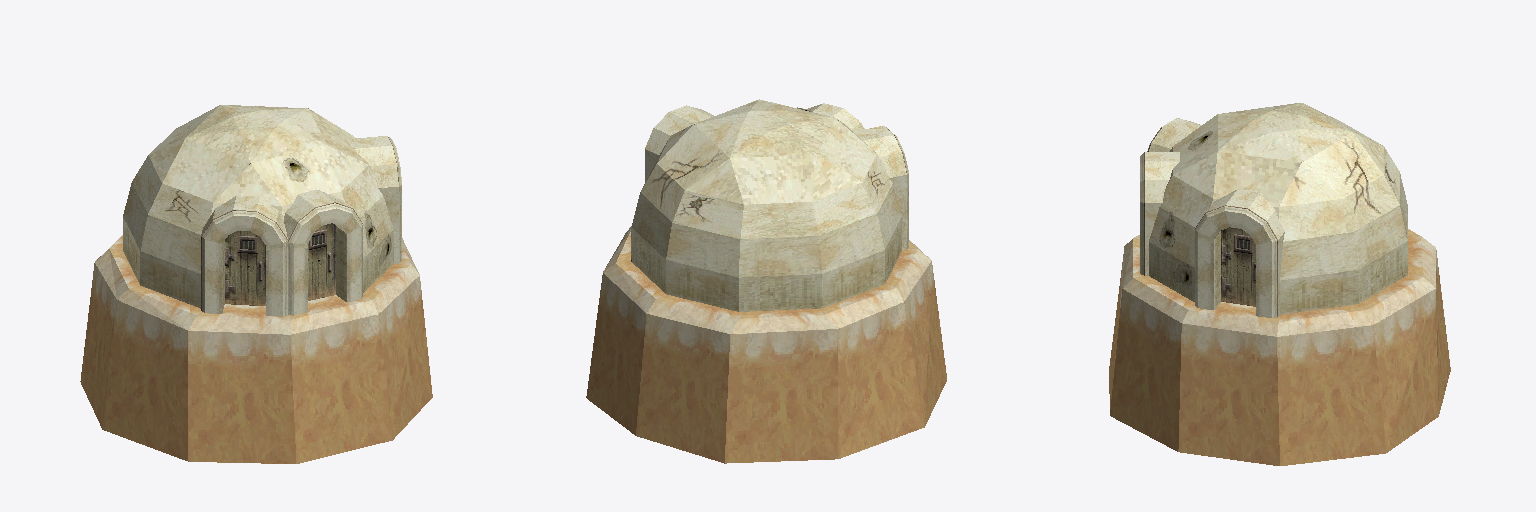
The picture shows the model from 3 angles: view 1: azimuth 30°, elevation 25°; view 2: azimuth 150°, elevation 25°; view 3: azimuth 270°, elevation 25°; orthographic projection.
Visible parts, largest first — view 1: Node 0; view 2: Node 0; view 3: Node 0.
Boxes of the visible parts, x1,y1,x2,y2 form: Node 0: [80, 105, 432, 463]; Node 0: [586, 99, 946, 463]; Node 0: [1109, 103, 1450, 465].
Size of the model in its own units: 10.76 by 8.93 by 10.26.
Materials: 5 (5 with a texture image).